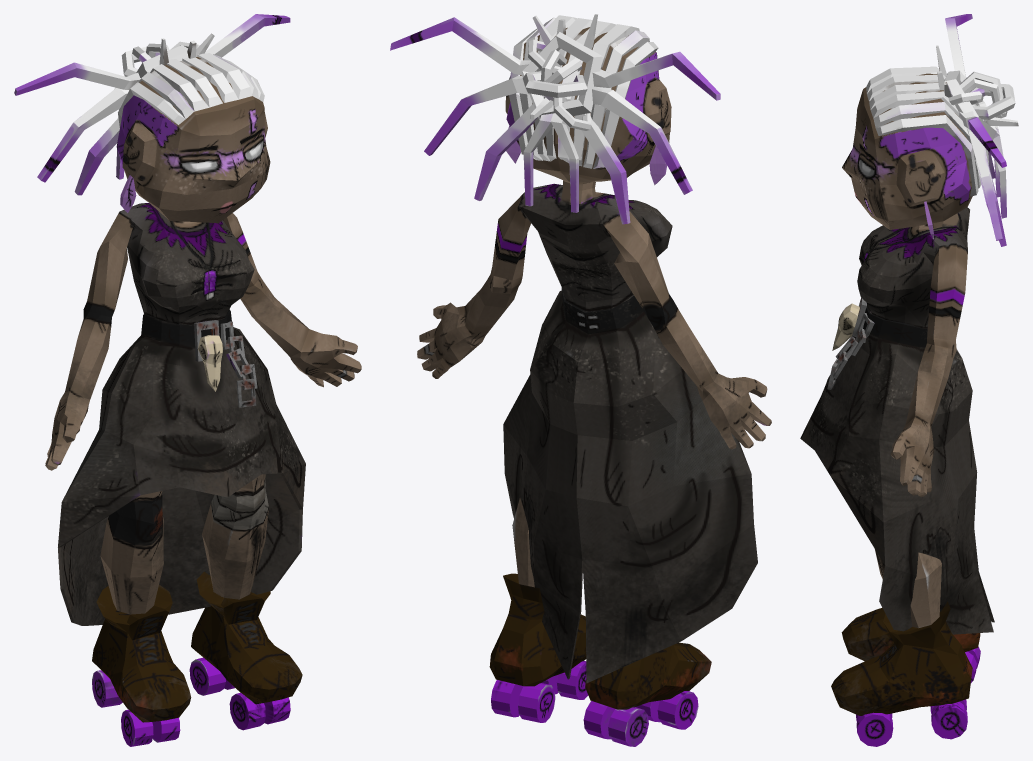
Rendered from bruja_000058.obj.
3 views of the same model, side by side, from view 1: azimuth 30°, elevation 25°; view 2: azimuth 150°, elevation 25°; view 3: azimuth 270°, elevation 25° (orthographic). The views are drawn at different scales.
Visible parts, largest first — view 1: Bruja_Plane.001; view 2: Bruja_Plane.001; view 3: Bruja_Plane.001.
Part boxes in pixels (left/top/right/bottom): Bruja_Plane.001: left=14, top=14, right=361, bottom=746; Bruja_Plane.001: left=390, top=14, right=771, bottom=746; Bruja_Plane.001: left=800, top=14, right=1018, bottom=746.
Size of the model in its own units: 8.13 by 16.47 by 4.94.
